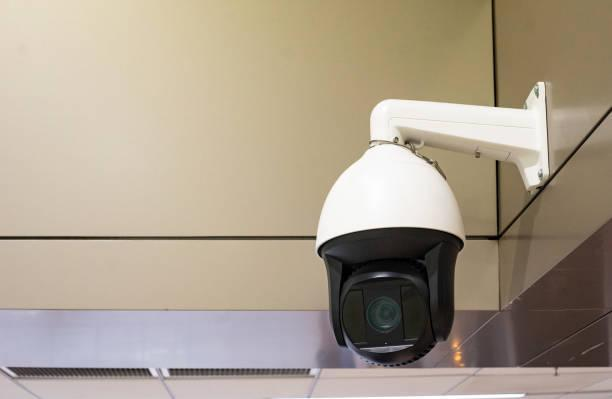camera: (286, 137, 486, 380)
